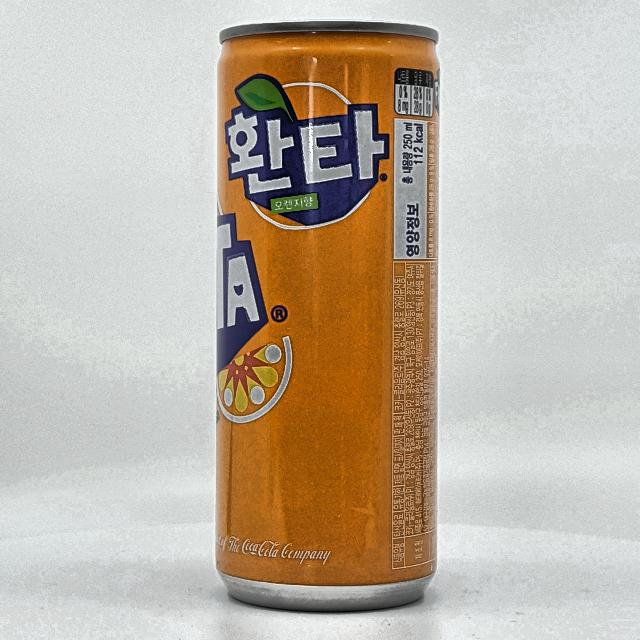fantaorange: (216, 22, 439, 610)
